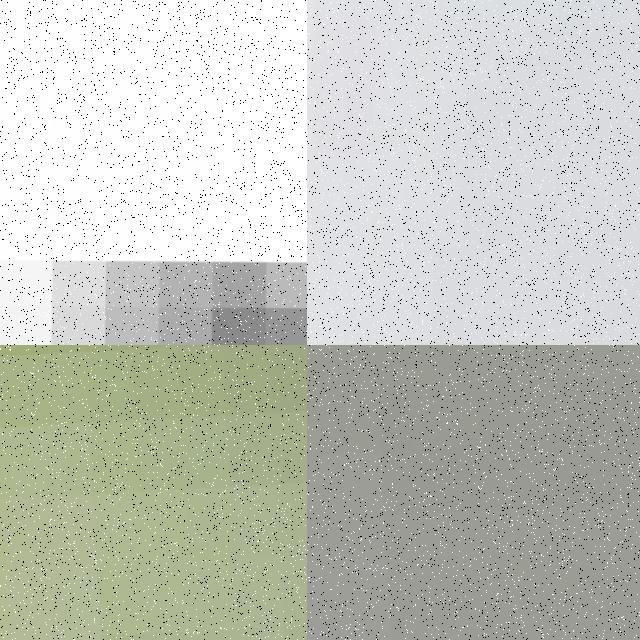drone: (307, 0, 640, 345), (0, 0, 307, 345)
